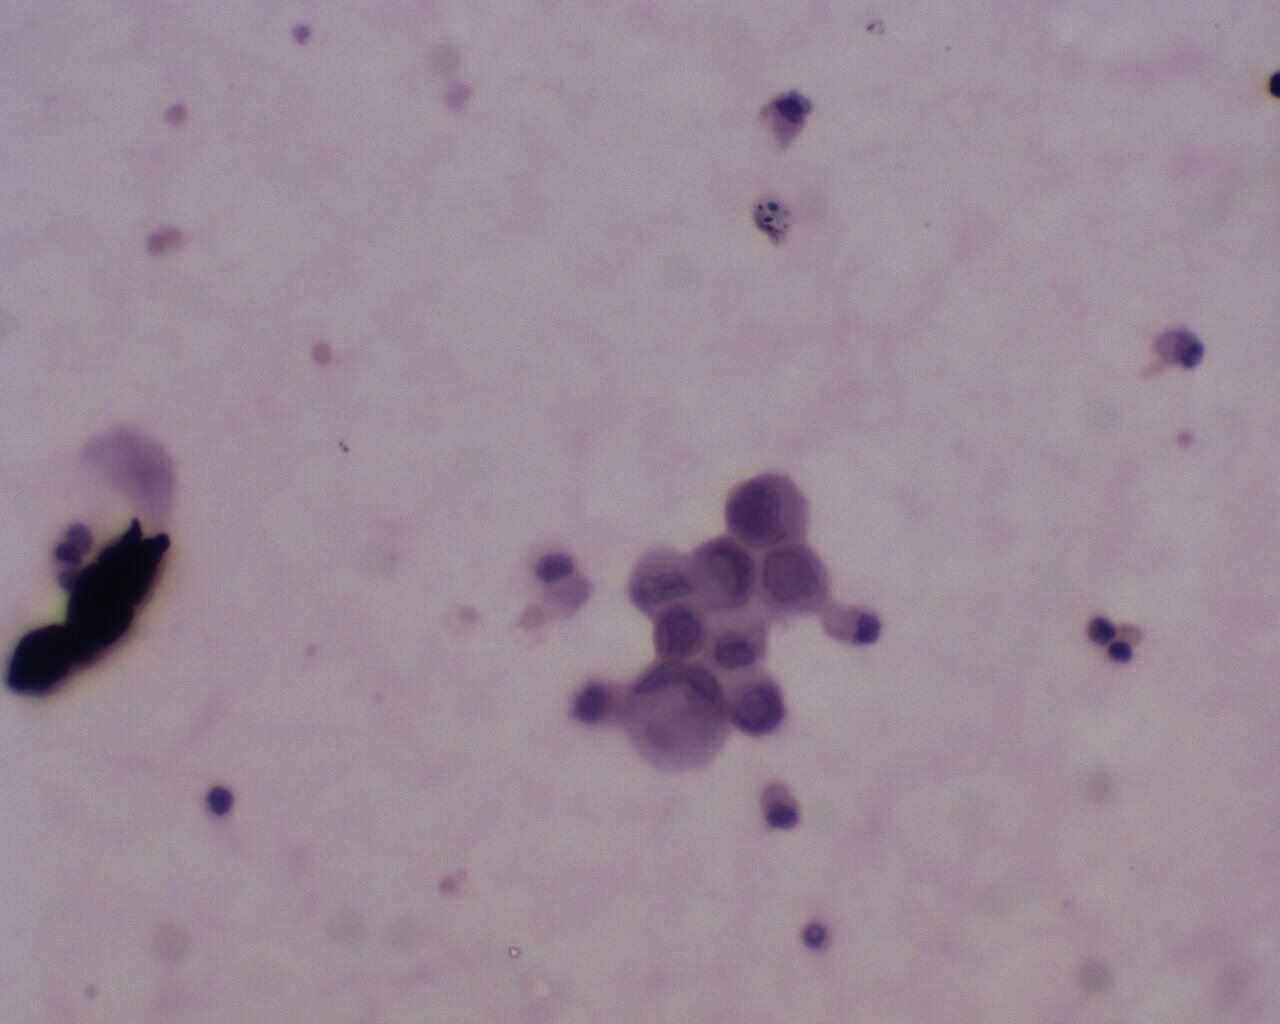ab: (726, 468, 811, 550), (691, 535, 761, 613), (761, 546, 829, 616), (724, 668, 789, 739), (652, 600, 711, 662)
histo: (625, 662, 730, 779)
lymph: (202, 782, 242, 821), (1106, 635, 1137, 664)
